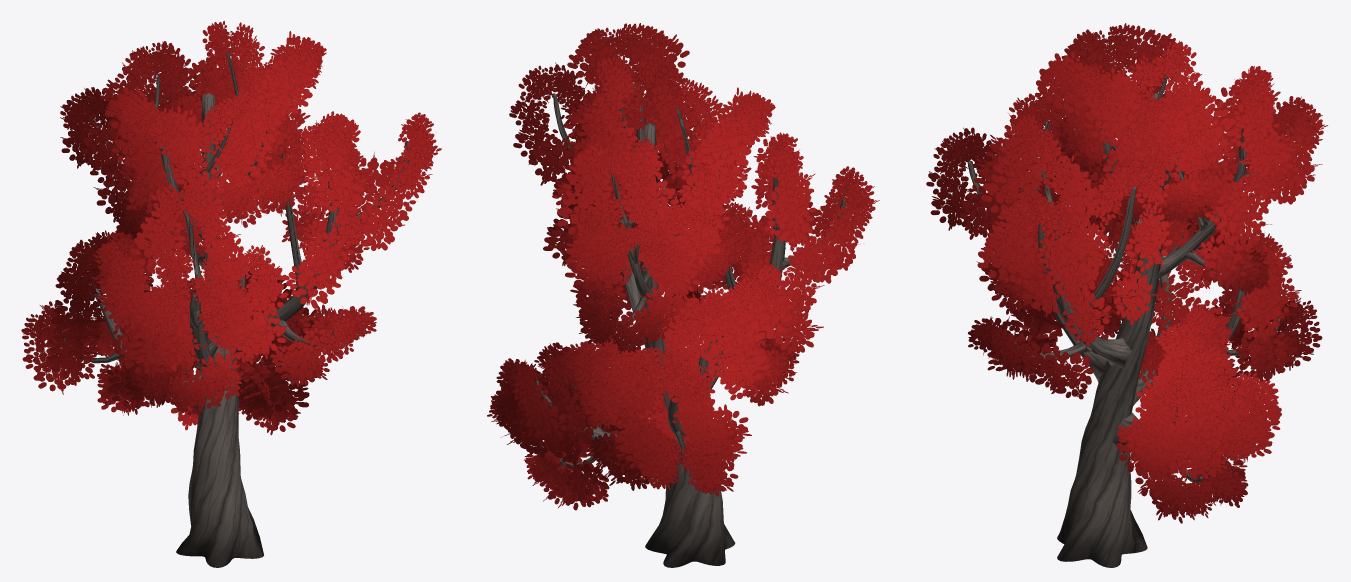
Rendered from quaternius-TwistedTree_3.glb.
3 views of the same model, side by side, from view 1: azimuth 30°, elevation 25°; view 2: azimuth 150°, elevation 25°; view 3: azimuth 270°, elevation 25° (orthographic). The views are drawn at different scales.
Visible parts, largest first — view 1: TwistedTree_3; view 2: TwistedTree_3; view 3: TwistedTree_3.
Boxes of the visible parts, x1=… form: TwistedTree_3: x1=21, y1=21, x2=441, y2=567; TwistedTree_3: x1=487, y1=23, x2=879, y2=567; TwistedTree_3: x1=926, y1=23, x2=1327, y2=567.
Bounding box in the file's own units: 11.36 × 16.07 × 11.51.
Materials: 2 (2 with a texture image).
